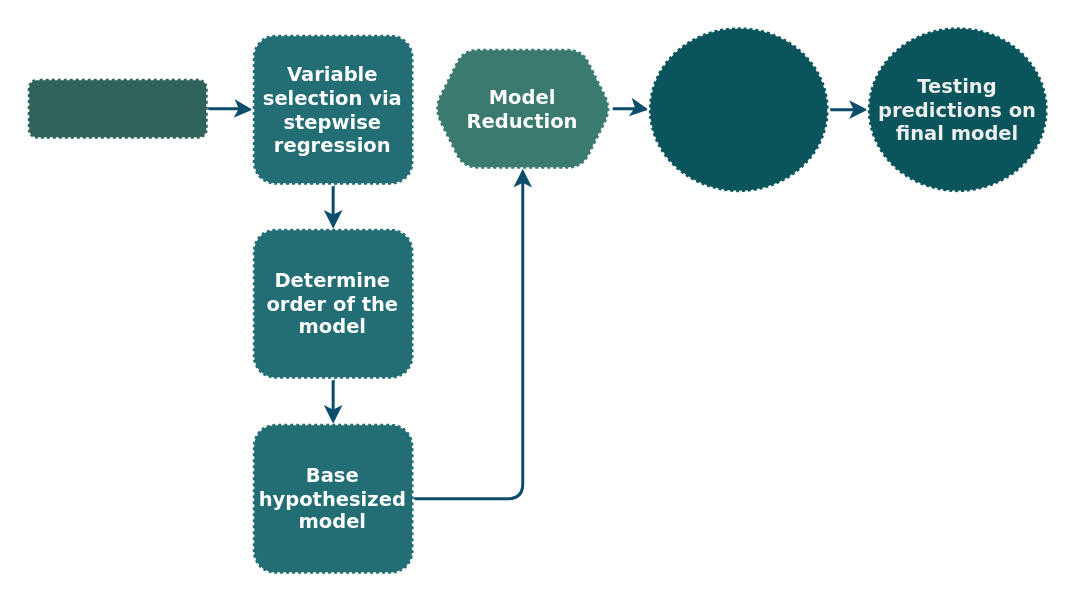
The diagram is 1074 pixels wide and 602 high, and some of its shapes have lost their labels. Here are the shapes that lost their labels. From the top down, the centre of each, then its label:
At (117,108): "Import Data".
At (738,109): "Model Transformation".
